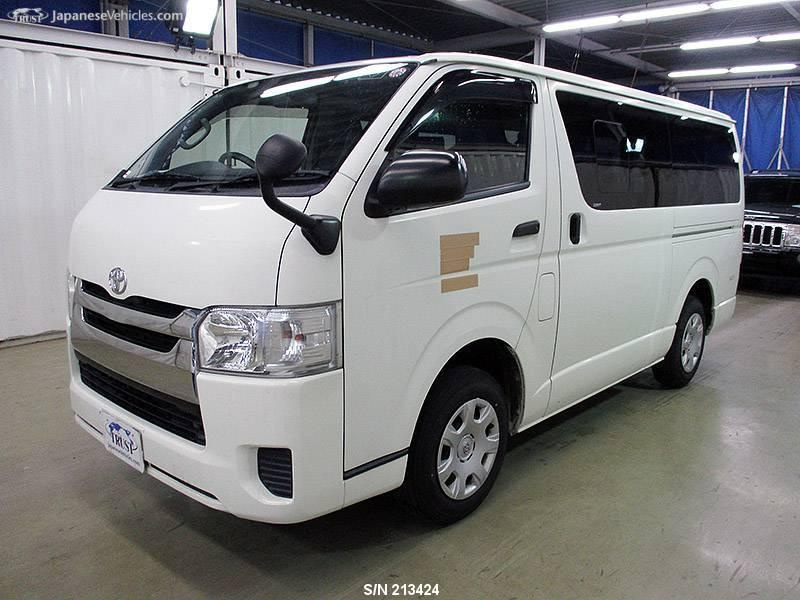van: (64, 52, 748, 525)
